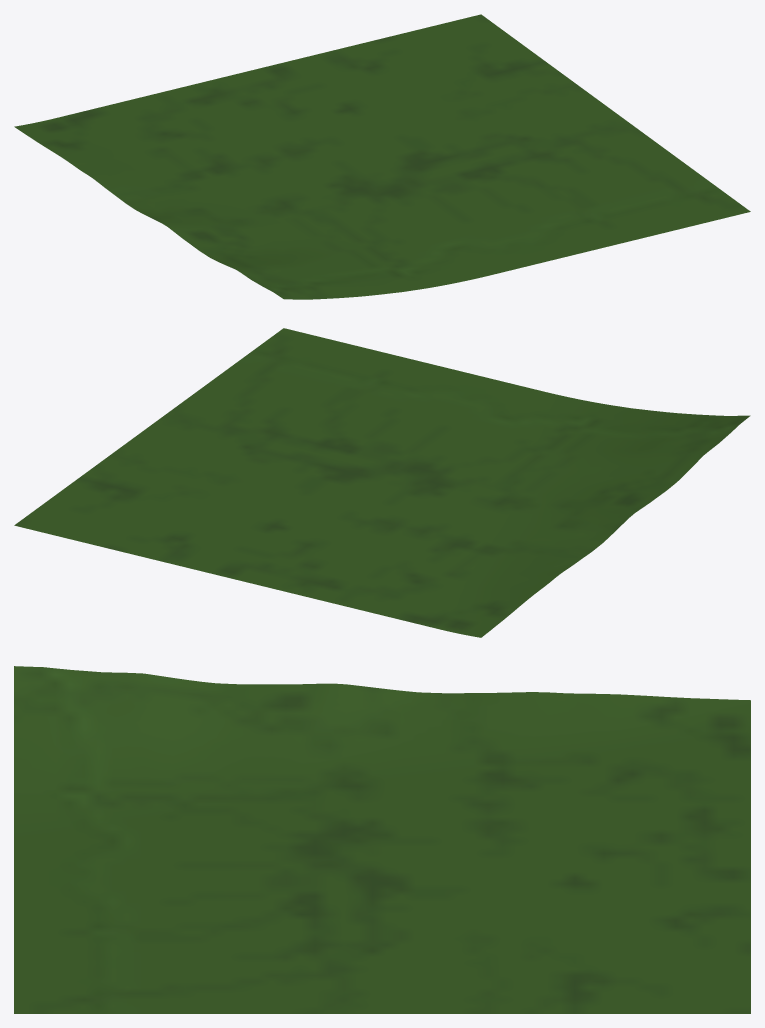
The model's file is chunk15-13_LOD0.obj.
3 renders of one model, top to bottom at view 1: azimuth 30°, elevation 25°; view 2: azimuth 150°, elevation 25°; view 3: azimuth 270°, elevation 25°, orthographic. The views are drawn at different scales.
Visible parts, largest first — view 1: chunk_15_13_LOD0; view 2: chunk_15_13_LOD0; view 3: chunk_15_13_LOD0.
Part boxes in pixels (bbox=[...]): chunk_15_13_LOD0: bbox=[14, 14, 750, 299]; chunk_15_13_LOD0: bbox=[14, 328, 750, 637]; chunk_15_13_LOD0: bbox=[14, 666, 750, 1013].
Bounding box in the file's own units: 1994 × 108 × 1994.
1 material, 1 textured.
